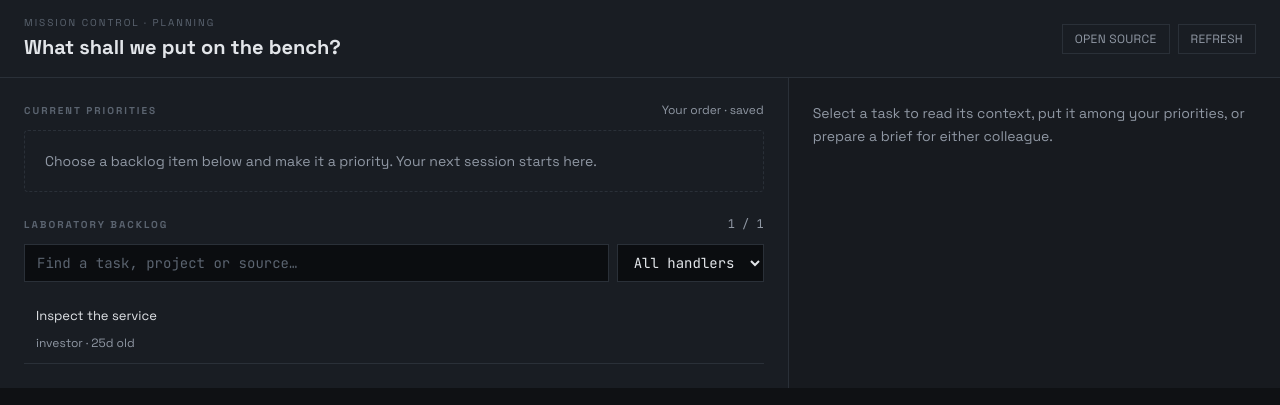
Test: Mission Control planning › reads the canonical backlog on entry and filters tasks
This screenshot has width=1280, height=405.
Expected: the number of buttons with class "backlog-row" is 1, [24,294,764,364]
In the field named "Search backlog": (316, 263) [24,244,609,282], type "missing"
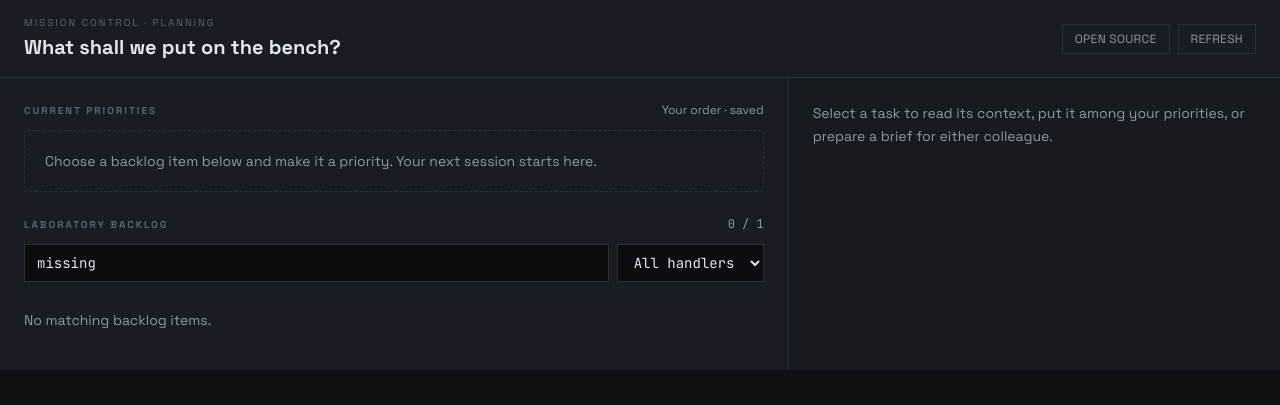
Result: no buttons with class "backlog-row" are shown
